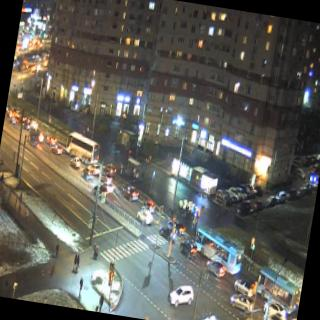large-vehicle: (190, 226, 247, 276), (252, 266, 301, 314), (64, 130, 102, 168)
small-vehicle: (166, 279, 197, 309), (228, 288, 256, 314), (260, 295, 288, 320), (231, 272, 257, 298), (206, 258, 228, 283), (178, 237, 200, 260), (156, 222, 178, 244), (136, 207, 154, 230), (170, 217, 188, 239), (92, 180, 108, 201), (102, 160, 119, 179), (142, 197, 158, 217), (123, 184, 139, 203), (100, 177, 116, 196), (86, 160, 102, 178), (80, 165, 96, 182), (44, 132, 59, 150), (263, 310, 288, 320), (69, 154, 82, 172), (21, 118, 34, 130), (28, 120, 40, 132), (53, 144, 64, 156), (34, 132, 45, 144)
